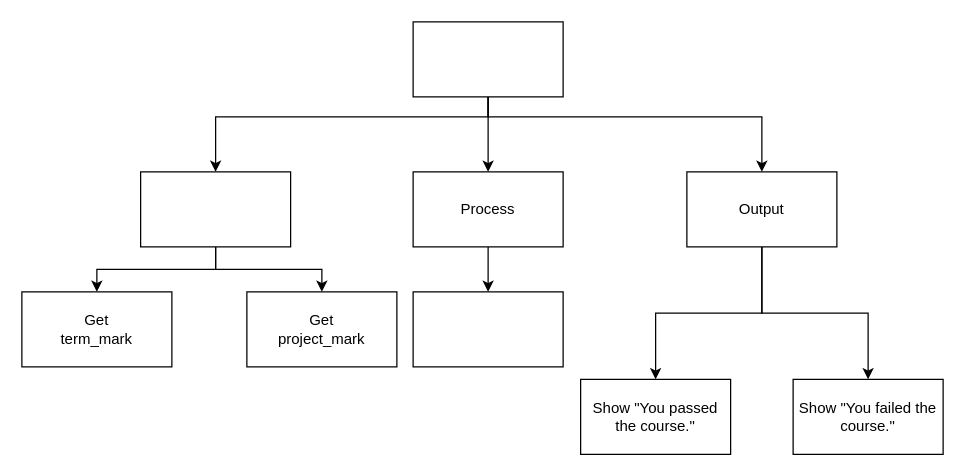
Some shapes in this 965 by 476 pixel diagram are drawn without their labels. Here are the shapes that lost their labels. From the top down, the centre of each, then its label:
At (487,59): "Pass the Course".
At (215,209): "Input".
At (487,329): "Check if both >= 50%".
